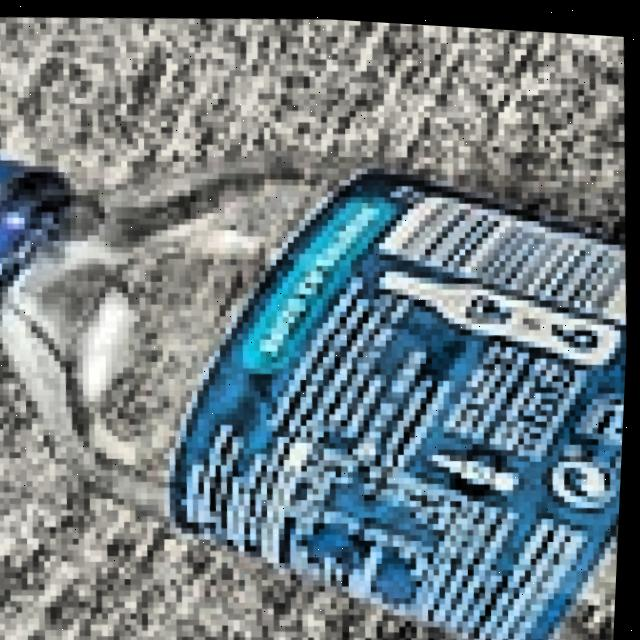plastic: (0, 80, 637, 640)
